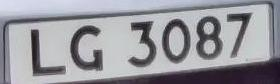0: (158, 15, 196, 68)
3: (125, 17, 162, 72)
7: (222, 8, 256, 62)
8: (192, 12, 227, 64)
G: (64, 20, 110, 76)
L: (21, 25, 68, 80)
